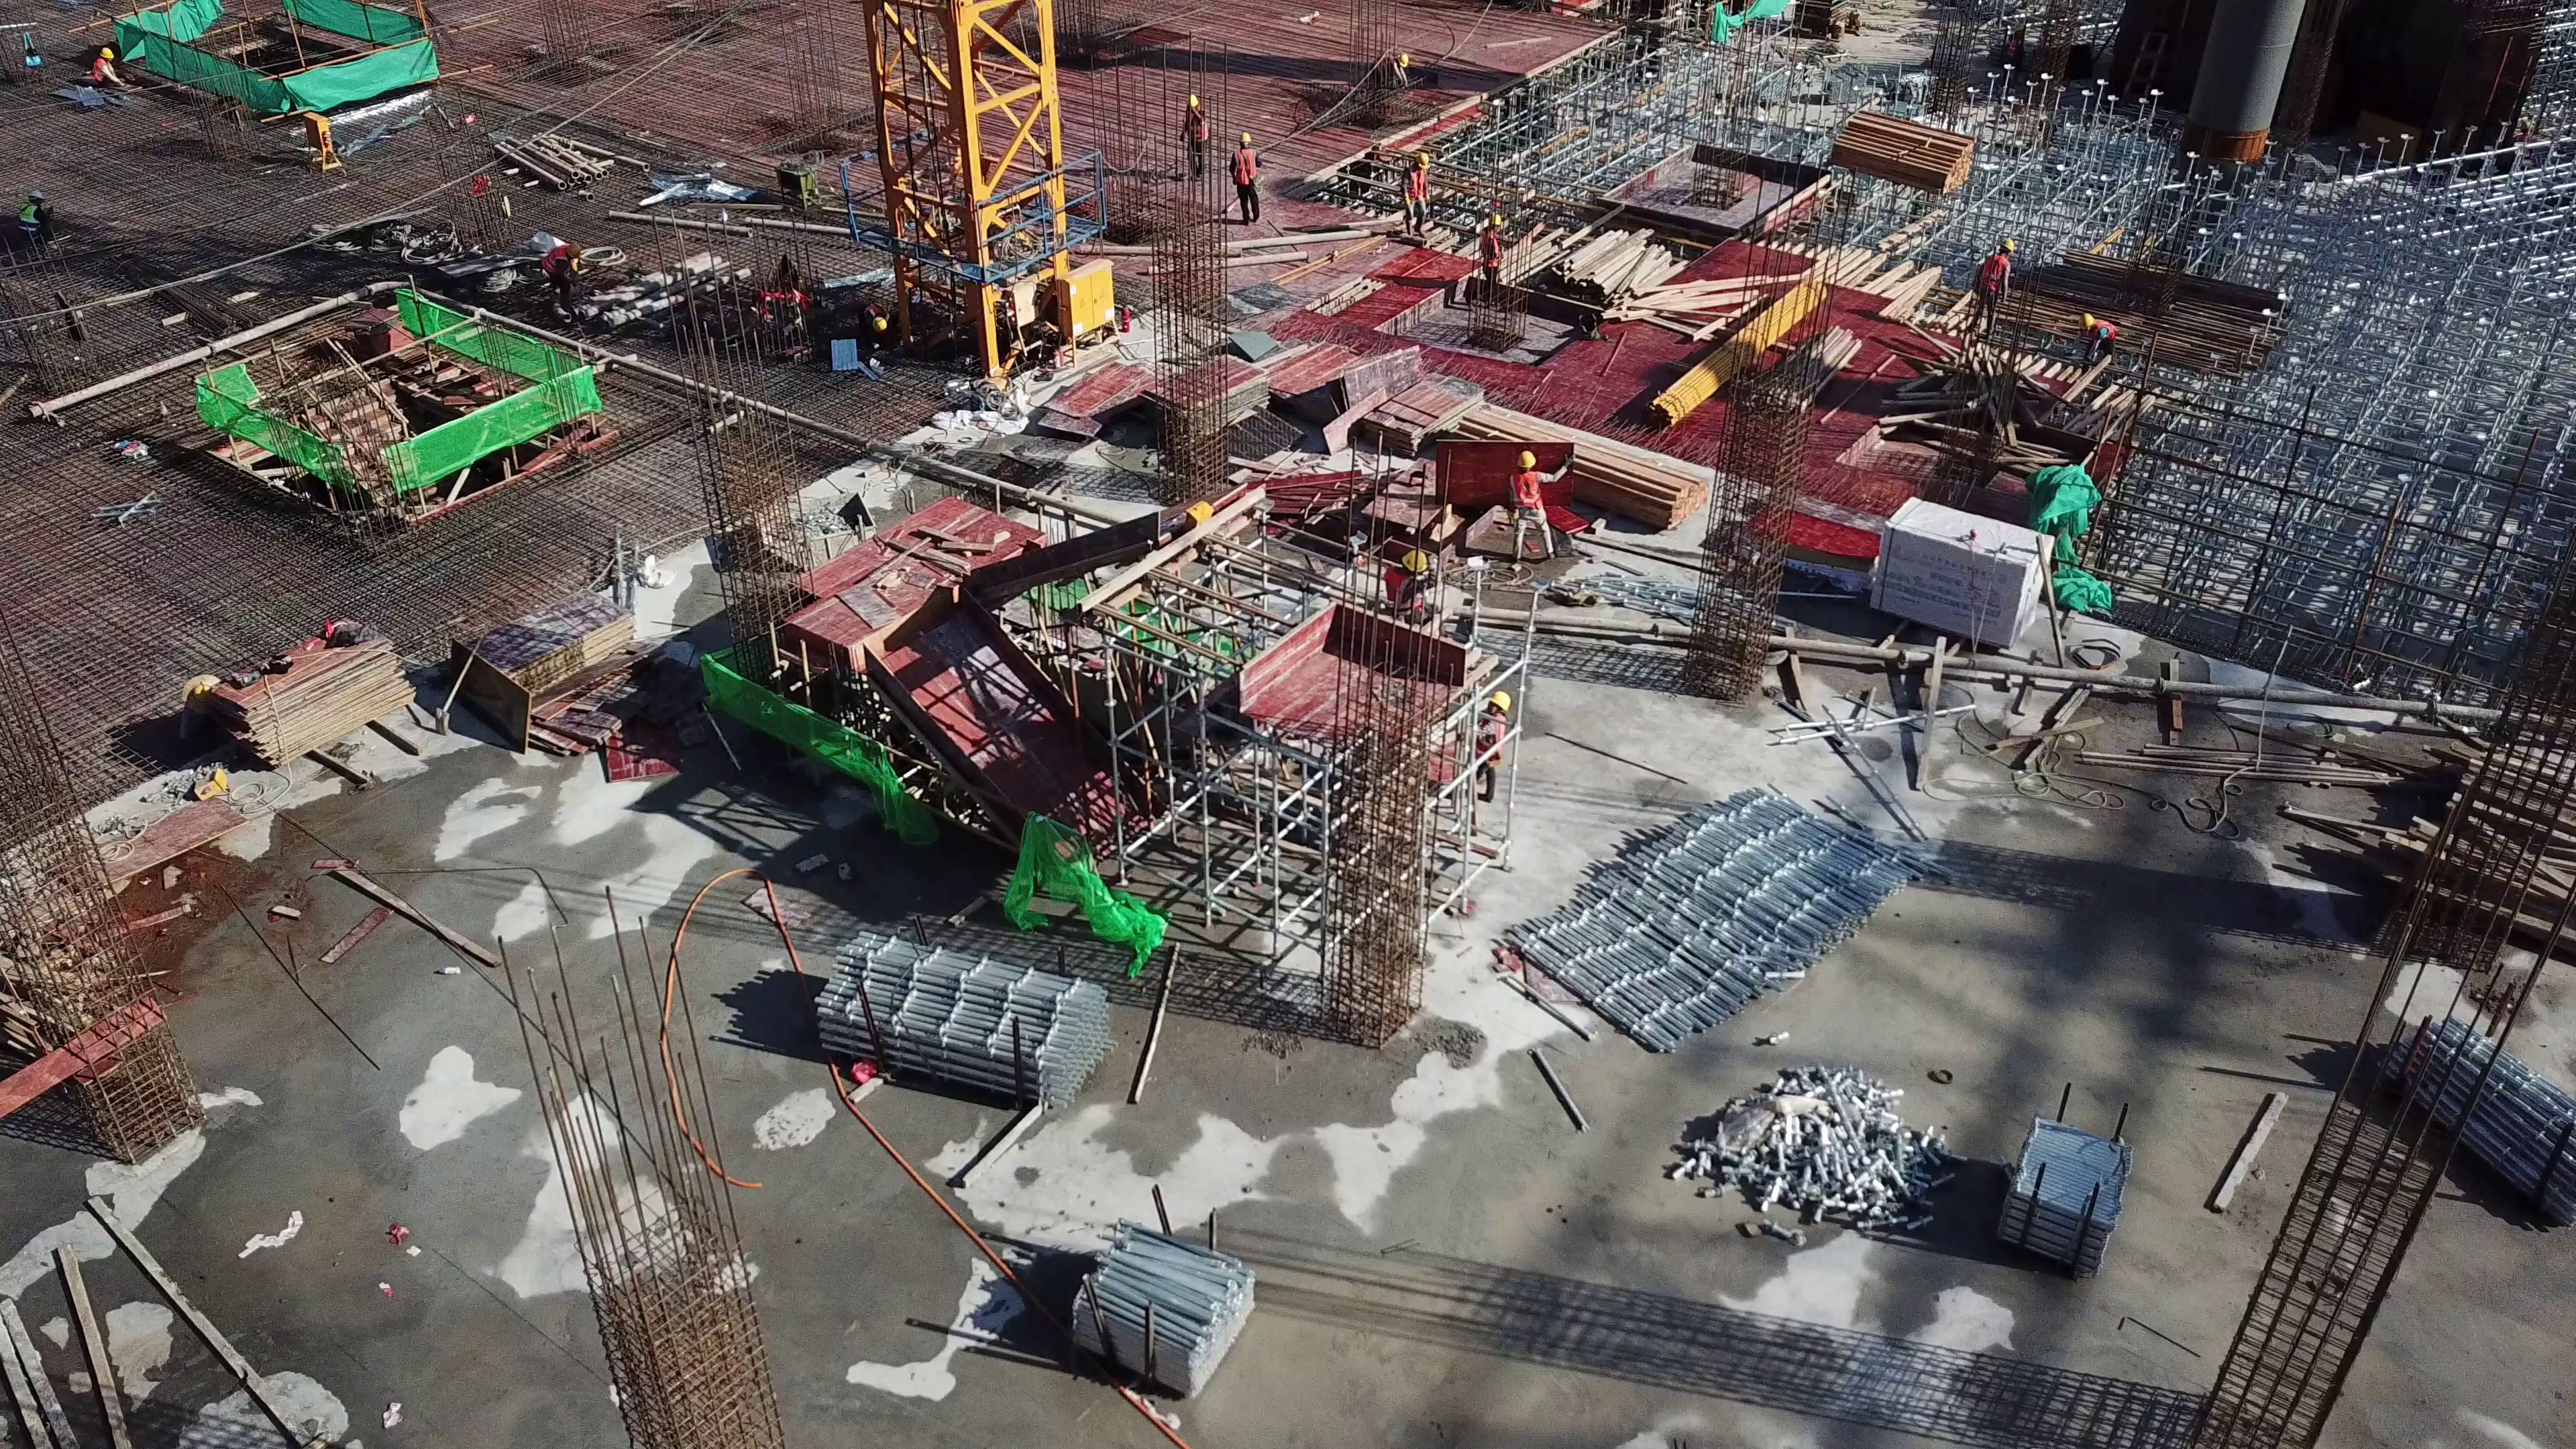board: (175, 608, 411, 788), (458, 573, 641, 759)
person: (1963, 223, 2021, 354), (1472, 689, 1525, 823), (1511, 444, 1560, 582), (513, 229, 586, 307), (1225, 129, 1271, 229), (1377, 543, 1446, 604), (2076, 307, 2129, 389), (1403, 150, 1438, 237)
scaffold: (1511, 780, 1911, 1051), (805, 937, 1102, 1130), (2406, 1010, 2576, 1222), (1079, 1229, 1248, 1418), (2006, 1124, 2131, 1281)
wood: (1452, 409, 1721, 537), (1505, 225, 1729, 331)
